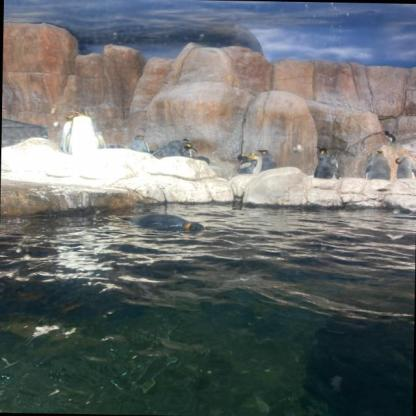penguin: (64, 108, 107, 156), (118, 212, 207, 235), (313, 146, 339, 180), (364, 150, 391, 180), (61, 114, 80, 152), (161, 138, 189, 158), (394, 155, 415, 180), (254, 149, 277, 171), (130, 135, 150, 154), (247, 152, 262, 175), (179, 142, 197, 160), (237, 152, 251, 174), (152, 144, 170, 159)
